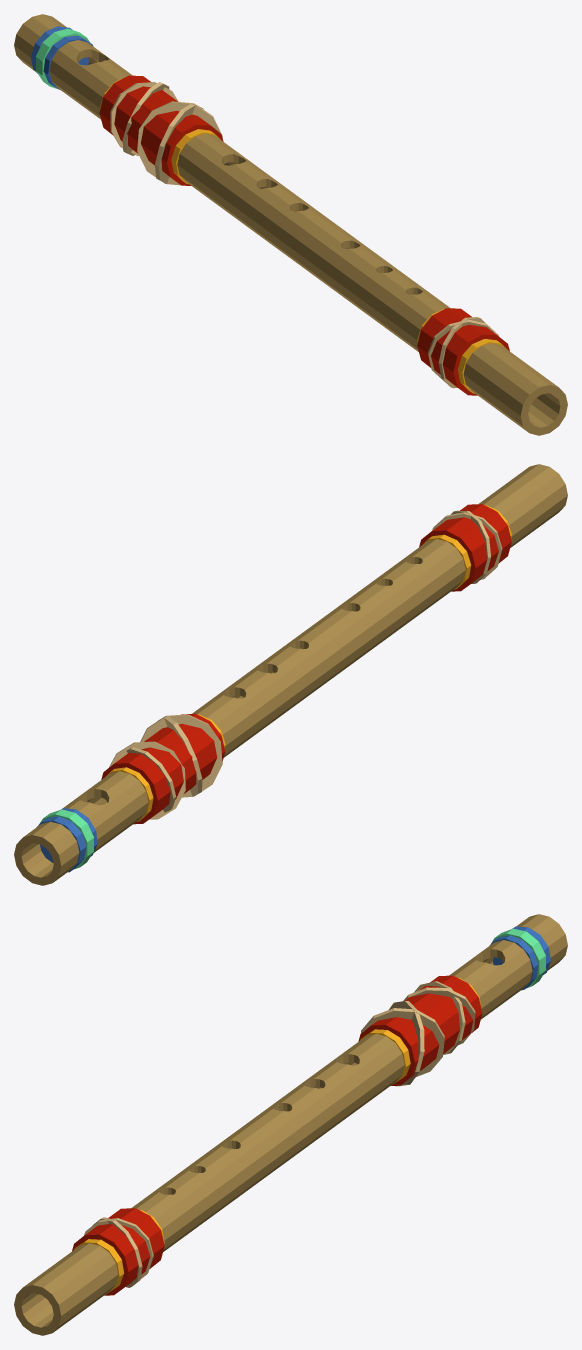
File: flute.fbx
The picture shows the model from 3 angles, top to bottom: view 1: azimuth 30°, elevation 25°; view 2: azimuth 150°, elevation 25°; view 3: azimuth 330°, elevation 25°; orthographic projection.
Visible parts, largest first — view 1: Cylinder.018; view 2: Cylinder.018; view 3: Cylinder.018.
Part boxes in pixels (x1,y1,x2,y2): Cylinder.018: [14, 14, 567, 435]; Cylinder.018: [14, 464, 567, 885]; Cylinder.018: [14, 914, 567, 1335].
Bounding box in the file's own units: 0.1145 × 0.1238 × 1.48.
